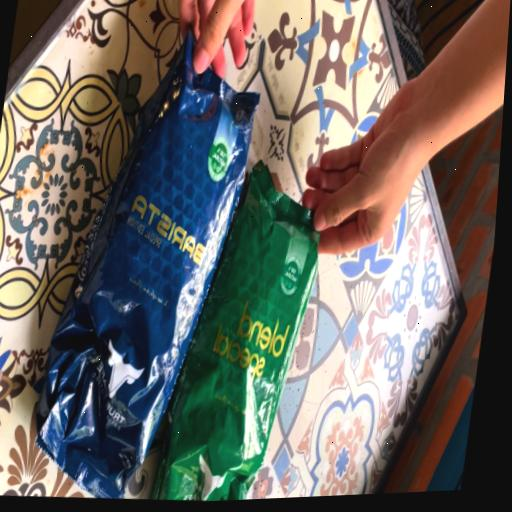cafe_hat: (36, 34, 258, 499), (149, 161, 318, 501)
cafe_xay: (149, 161, 318, 501)
